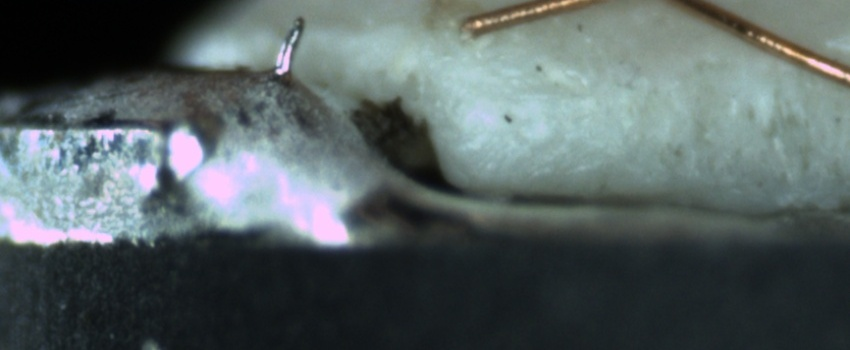DL: (449, 67, 599, 124)
